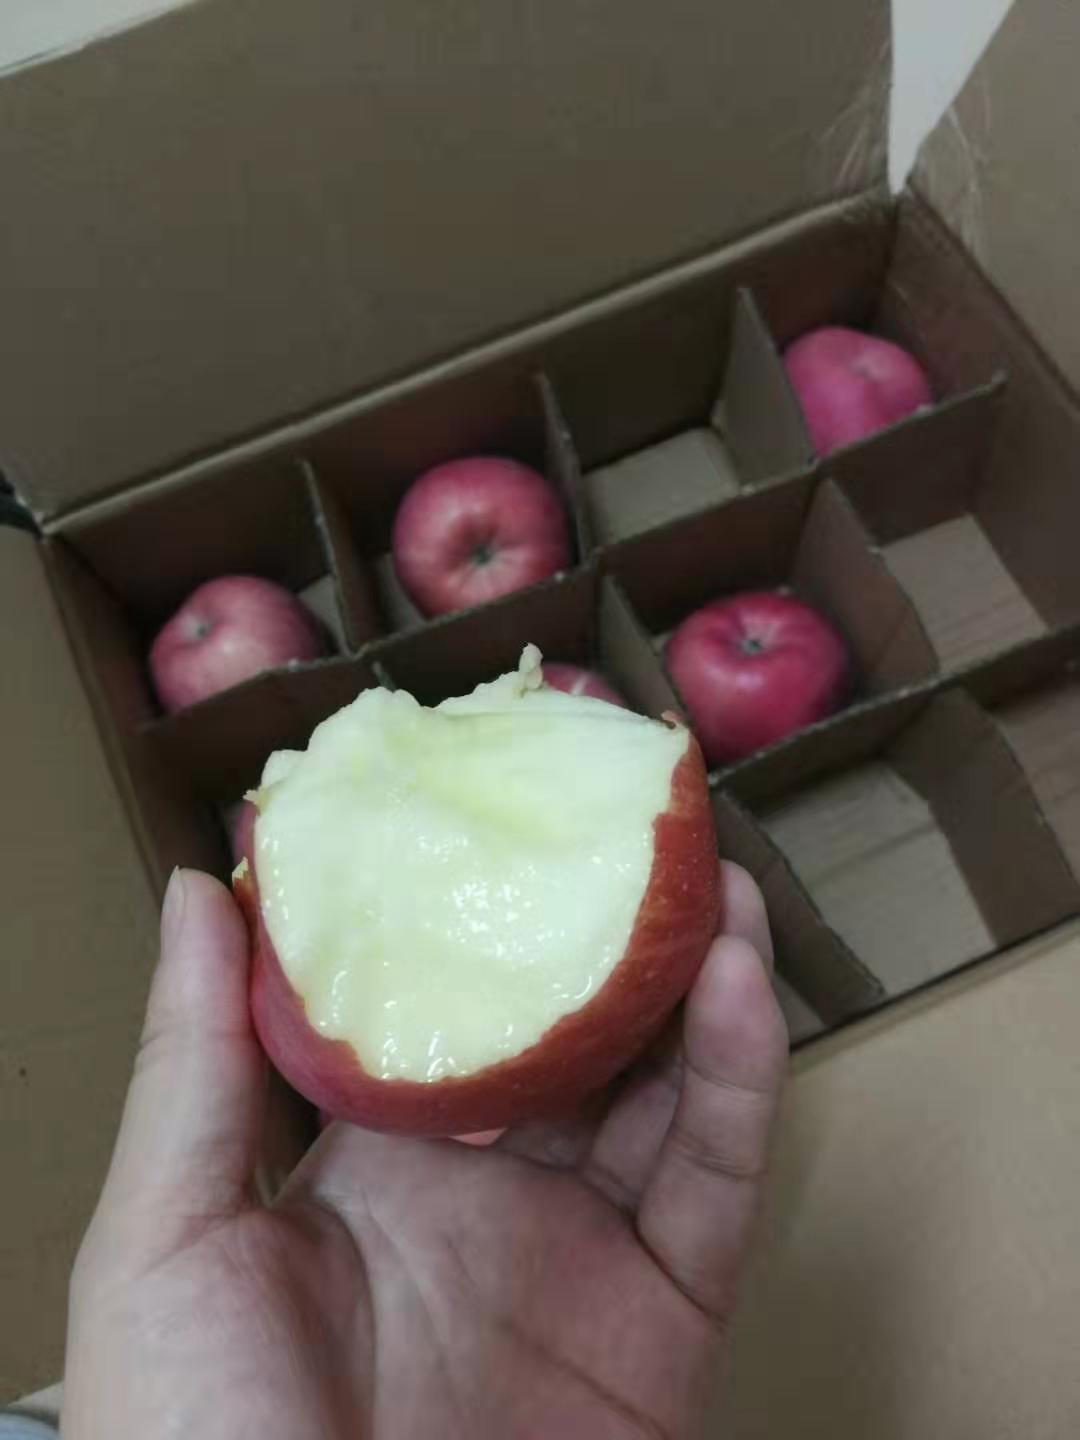apple: (663, 582, 858, 771), (389, 454, 569, 621), (144, 570, 334, 719), (777, 323, 933, 455)
